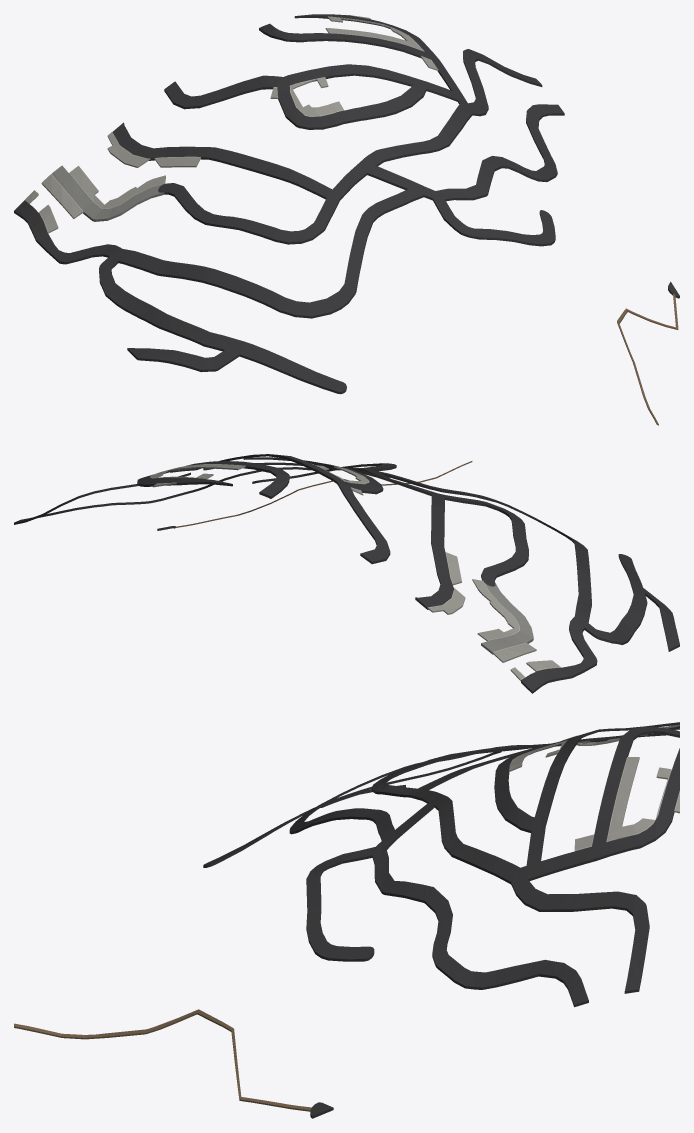
The model's file is 17-109416-59487.dbcf2c89.glb.
3 views of the same model, one above another, from view 1: azimuth 30°, elevation 25°; view 2: azimuth 150°, elevation 25°; view 3: azimuth 270°, elevation 25° (orthographic). The views are drawn at different scales.
Bounding box in the file's own units: 294 × 121 × 291.
